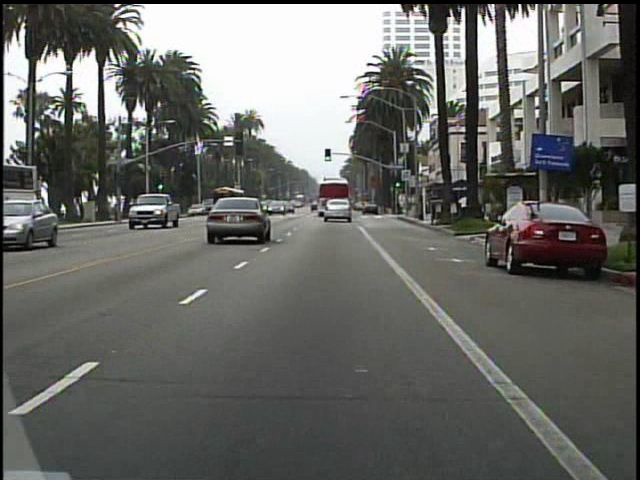person: (455, 191, 471, 221)
